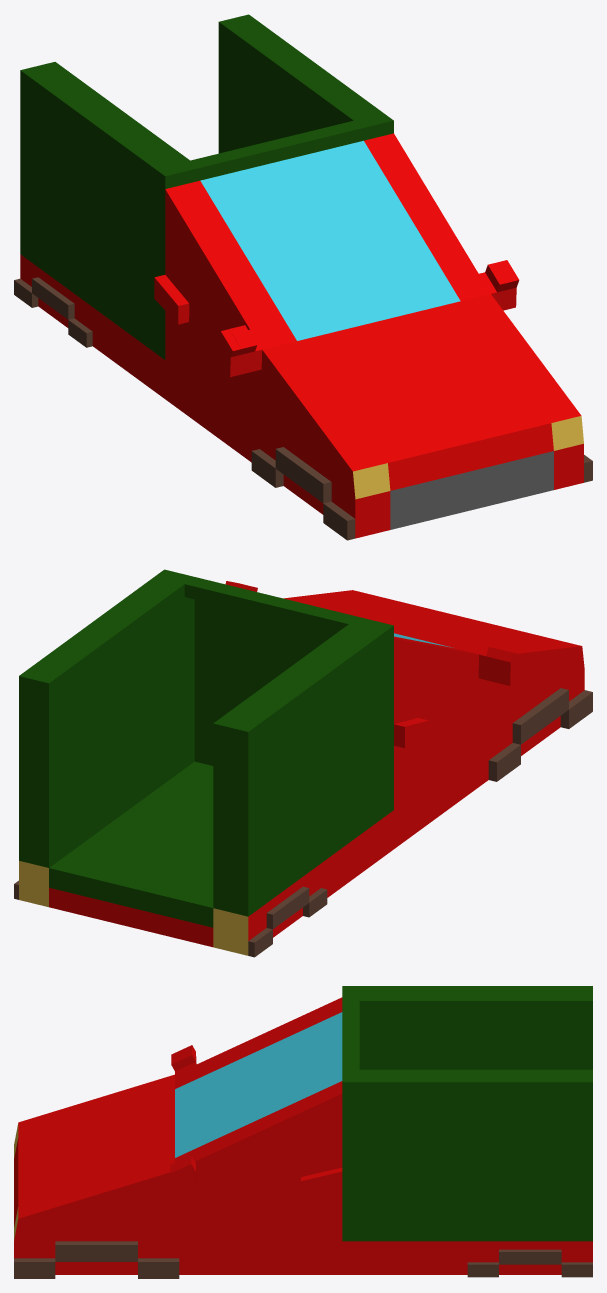
Rendered from TruckCar.fbx.
The picture shows the model from 3 angles, top to bottom: view 1: azimuth 30°, elevation 25°; view 2: azimuth 150°, elevation 25°; view 3: azimuth 270°, elevation 25°; orthographic projection. The views are drawn at different scales.
Parts seen in each view (by area): view 1: Car; view 2: Car; view 3: Car.
Boxes of the visible parts, x1=… form: Car: x1=14, y1=14, x2=592, y2=540; Car: x1=14, y1=569, x2=592, y2=957; Car: x1=14, y1=986, x2=592, y2=1278.
Size of the model in its own units: 213 by 159 by 432.
